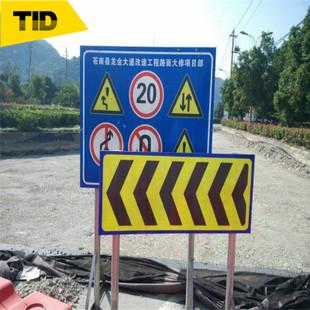sign: (80, 47, 210, 154), (105, 154, 247, 229)
